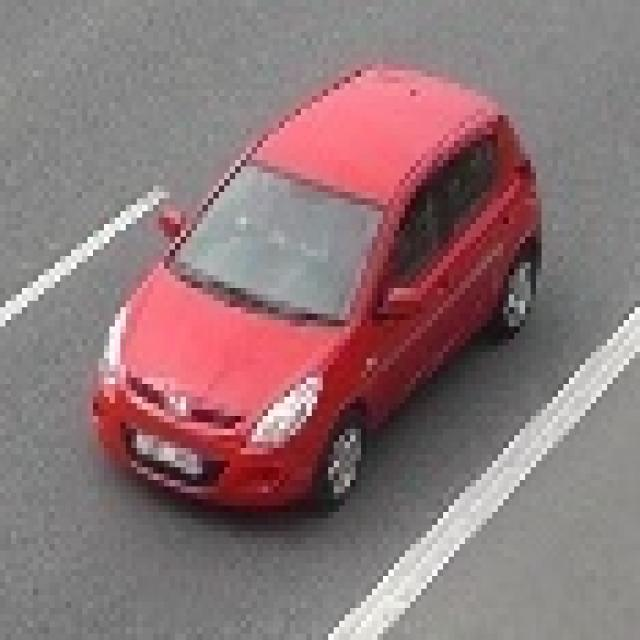red: (97, 63, 539, 515)
